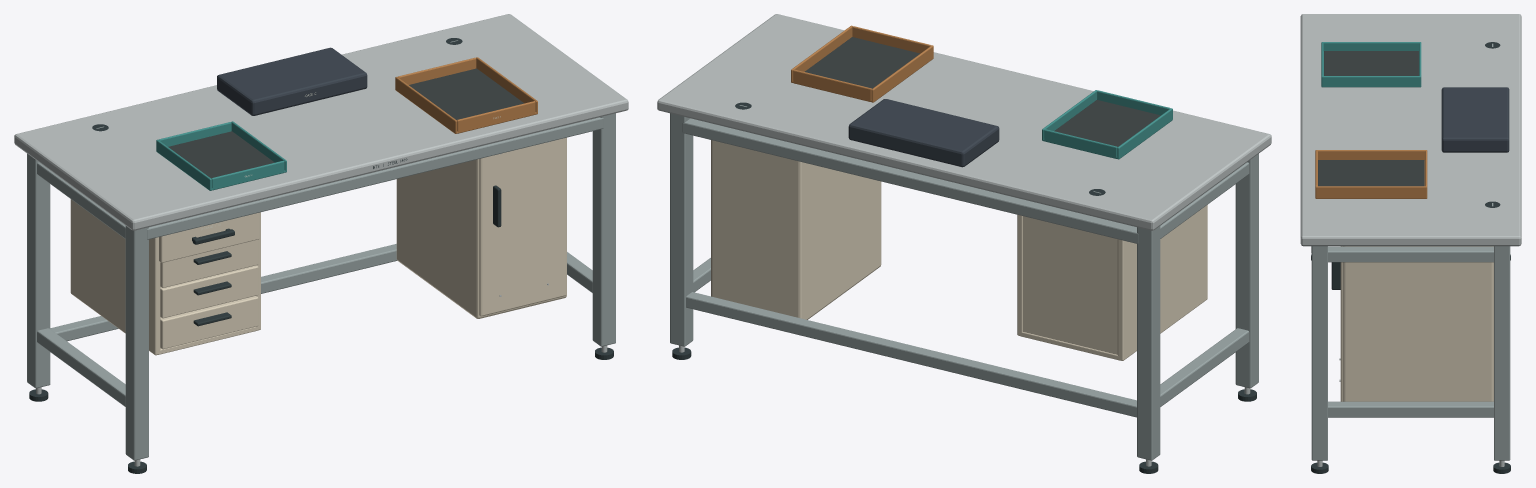
Rendered from steel-bench.glb.
3 renders of one model, left to right at view 1: azimuth 30°, elevation 25°; view 2: azimuth 150°, elevation 25°; view 3: azimuth 270°, elevation 25°, orthographic. The views are drawn at different scales.
Visible parts, largest first — view 1: WORKTOP, right_door, cream_right_body, cabinet_side, CASE_C_body, cross_brace.002, welded_tube_leg, welded_tube_leg.002, welded_tube_leg.001, cross_brace, TRAY_B_liner, inactive_drawer_face (+13 smaller); view 2: WORKTOP, cream_right_body, cabinet_back, cross_brace, cross_brace.001, cabinet_side, CASE_C_body, welded_tube_leg.001, welded_tube_leg.003, welded_tube_leg, TRAY_B_liner, TRAY_A_liner (+10 smaller); view 3: WORKTOP, cream_right_body, CASE_C_body, welded_tube_leg.002, welded_tube_leg.003, TRAY_B_liner, side_rail.002, side_rail.003, TRAY_A_liner, TRAY_B_wall.001, TRAY_A_wall.001, TRAY_B_wall (+3 smaller).
Boxes of the visible parts, left/top/right/bottom form: WORKTOP: left=14, top=14, right=628, bottom=230; right_door: left=479, top=138, right=566, bottom=316; cream_right_body: left=396, top=137, right=566, bottom=318; cabinet_side: left=70, top=199, right=160, bottom=355; CASE_C_body: left=217, top=47, right=367, bottom=115; cross_brace.002: left=147, top=117, right=603, bottom=239; welded_tube_leg: left=125, top=226, right=148, bottom=460; welded_tube_leg.002: left=592, top=113, right=615, bottom=346; welded_tube_leg.001: left=27, top=153, right=50, bottom=388; cross_brace: left=50, top=244, right=397, bottom=341; TRAY_B_liner: left=409, top=68, right=524, bottom=120; inactive_drawer_face: left=160, top=296, right=258, bottom=349; WORKTOP: left=657, top=14, right=1271, bottom=230; cream_right_body: left=711, top=140, right=881, bottom=319; cabinet_back: left=1023, top=216, right=1117, bottom=354; cross_brace: left=686, top=292, right=1136, bottom=417; cross_brace.001: left=682, top=118, right=1138, bottom=243; cabinet_side: left=1117, top=205, right=1207, bottom=360; CASE_C_body: left=848, top=99, right=999, bottom=167; welded_tube_leg.001: left=1137, top=226, right=1160, bottom=460; welded_tube_leg.003: left=670, top=113, right=693, bottom=346; welded_tube_leg: left=1235, top=154, right=1258, bottom=388; TRAY_B_liner: left=805, top=37, right=919, bottom=88; TRAY_A_liner: left=1054, top=100, right=1160, bottom=146; WORKTOP: left=1300, top=14, right=1521, bottom=246; cream_right_body: left=1343, top=246, right=1493, bottom=401; CASE_C_body: left=1441, top=87, right=1509, bottom=152; welded_tube_leg.002: left=1311, top=246, right=1327, bottom=460; welded_tube_leg.003: left=1494, top=246, right=1510, bottom=460; TRAY_B_liner: left=1318, top=160, right=1424, bottom=186; side_rail.002: left=1328, top=401, right=1493, bottom=417; side_rail.003: left=1328, top=246, right=1493, bottom=262; TRAY_A_liner: left=1324, top=51, right=1418, bottom=75; TRAY_B_wall.001: left=1315, top=186, right=1427, bottom=198; TRAY_A_wall.001: left=1321, top=76, right=1421, bottom=87; TRAY_B_wall: left=1315, top=150, right=1427, bottom=159.
Bounding box in the file's own units: 1.8 × 0.956 × 0.751.
